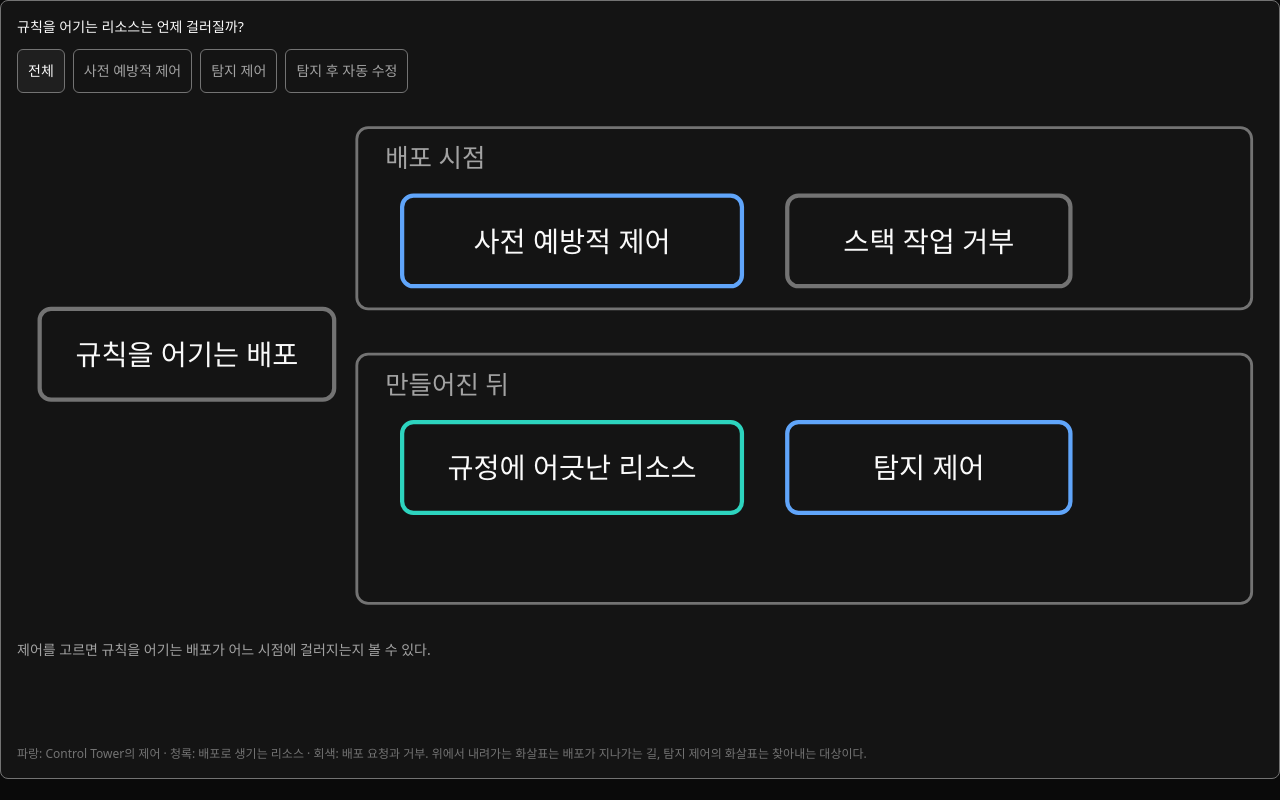
Test: ControlTimingDiagram › 제어를 바꾸면 이전 경로·곁말이 사라지고 전체를 누르면 초기 상태로 돌아온다
The image size is (1280, 800).
Click the button "사전 예방적 제어" at point(133, 71), box [73,49,192,93]
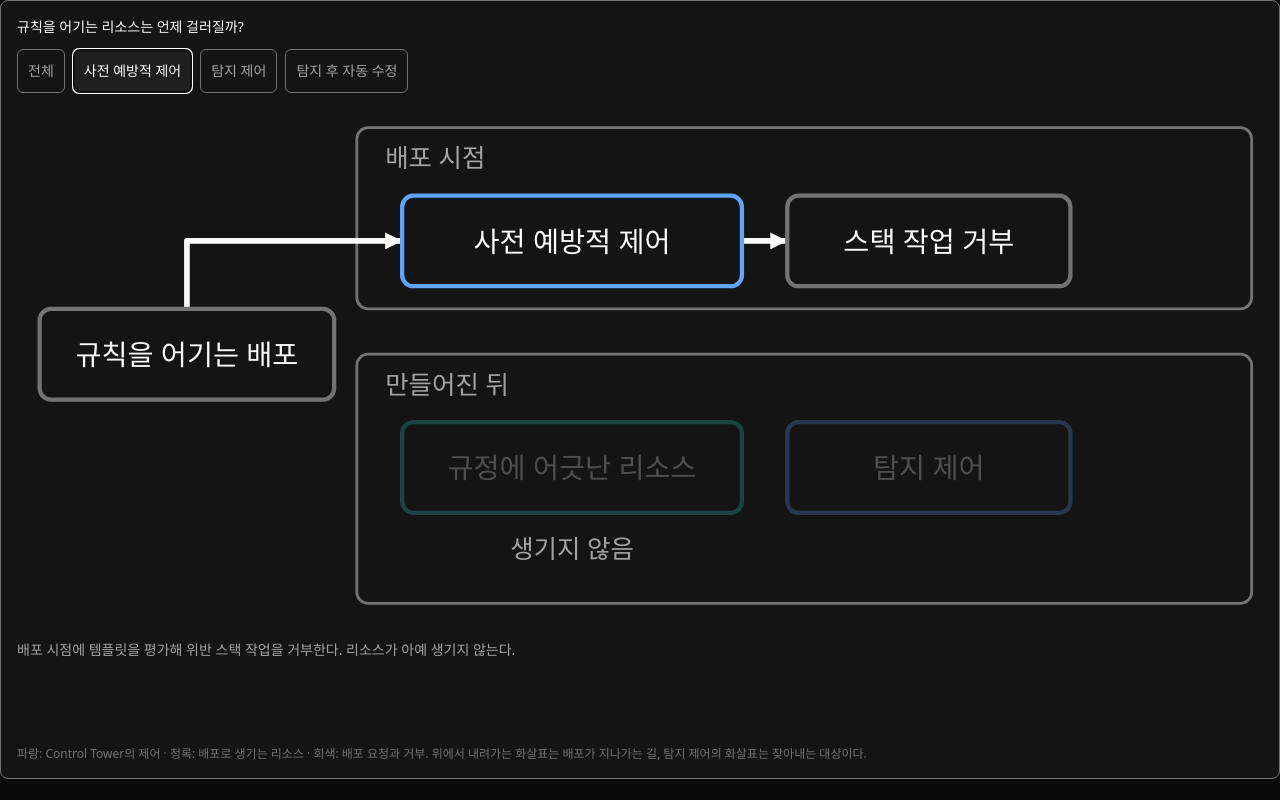
Click the button "탐지 제어" at point(239, 71), box [200,49,277,93]
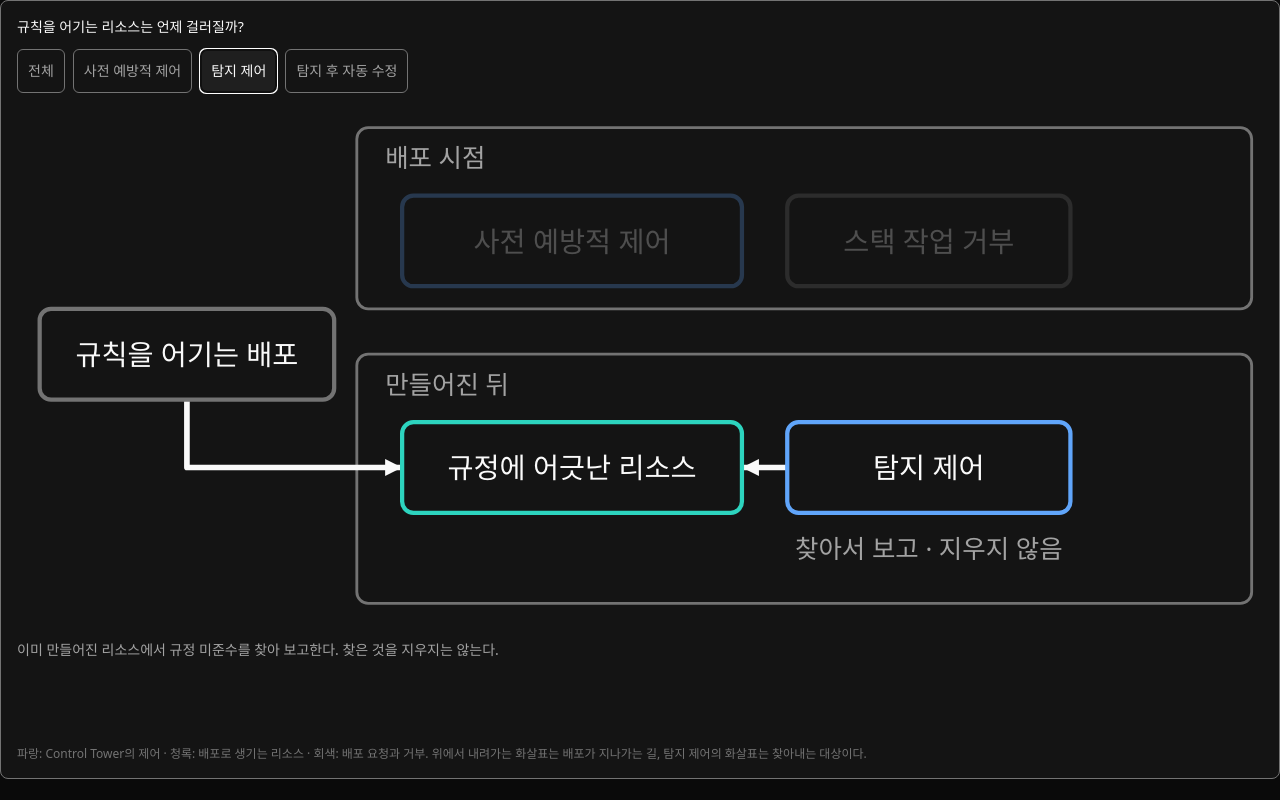
Click the button "탐지 후 자동 수정" at point(347, 71), box [285,49,408,93]
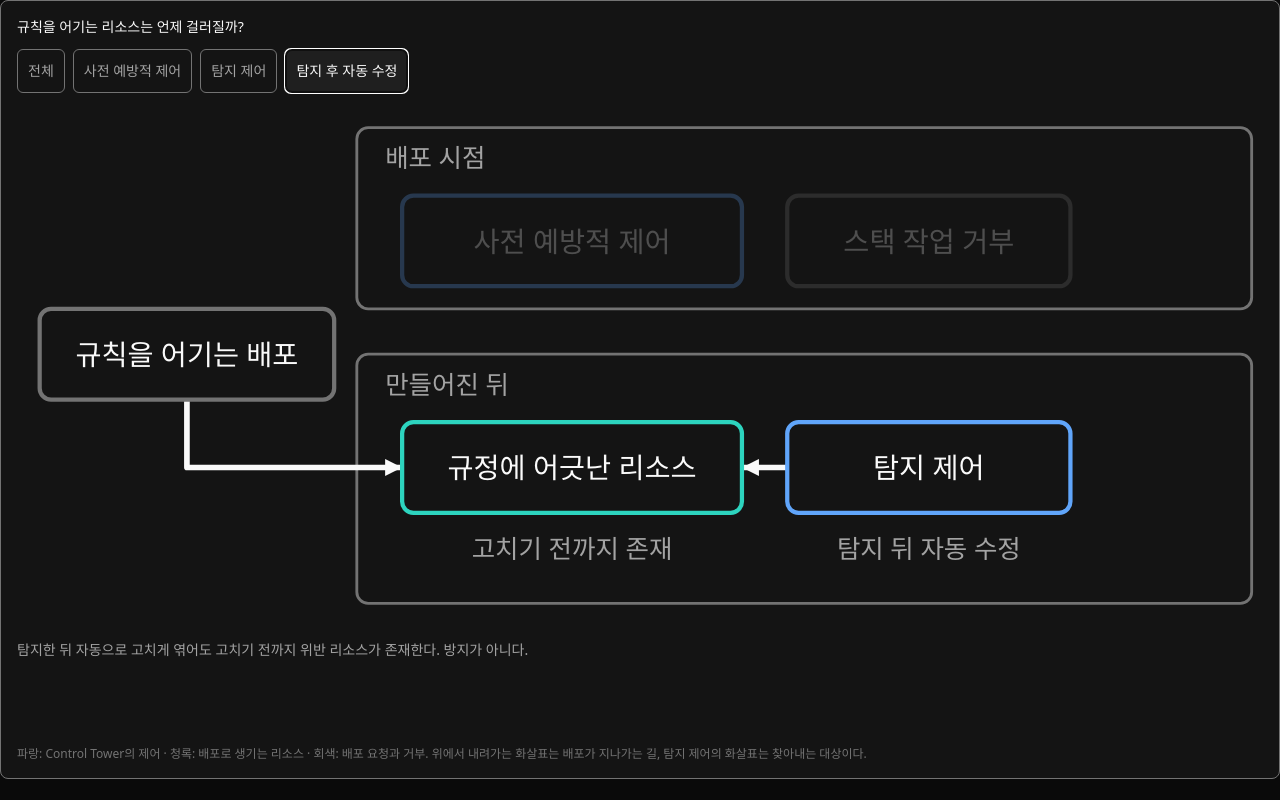
Click the button "사전 예방적 제어" at point(133, 71), box [73,49,192,93]
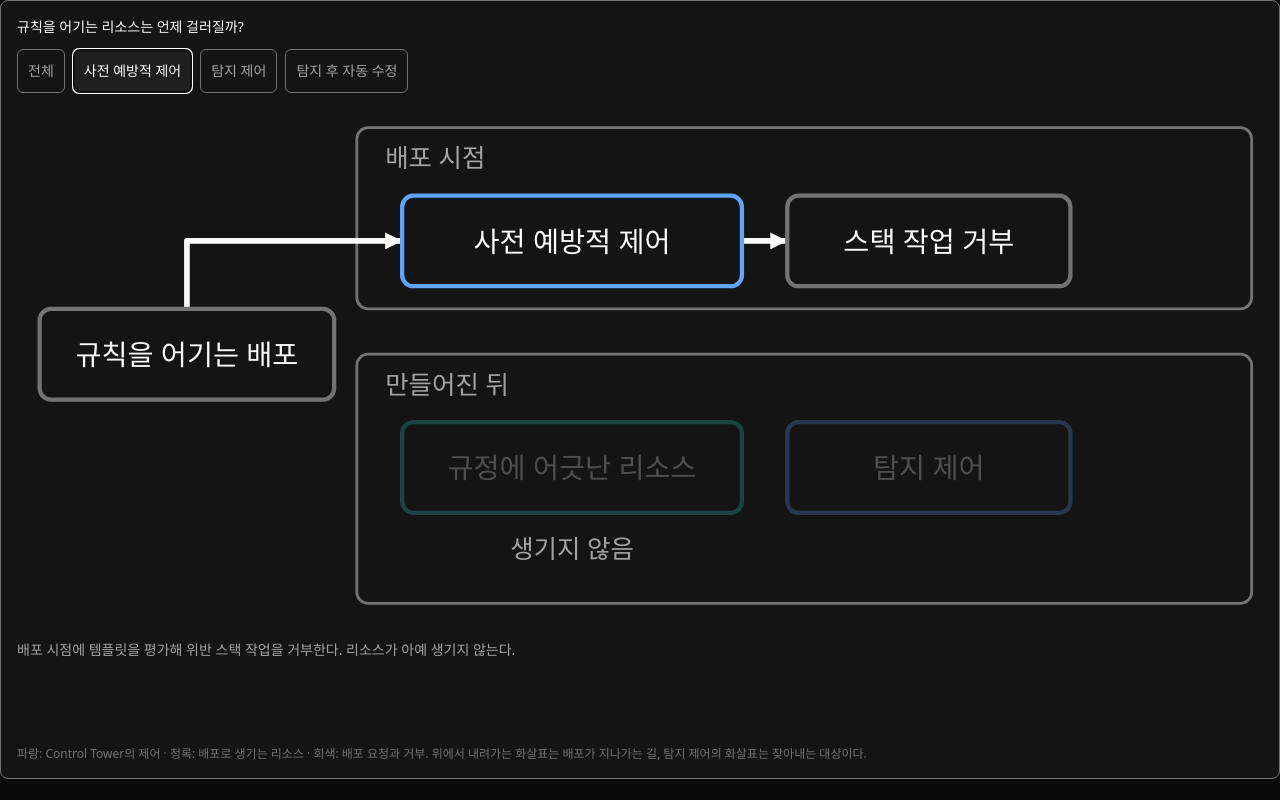
Click the button "전체" at point(41, 71), box [17,49,65,93]
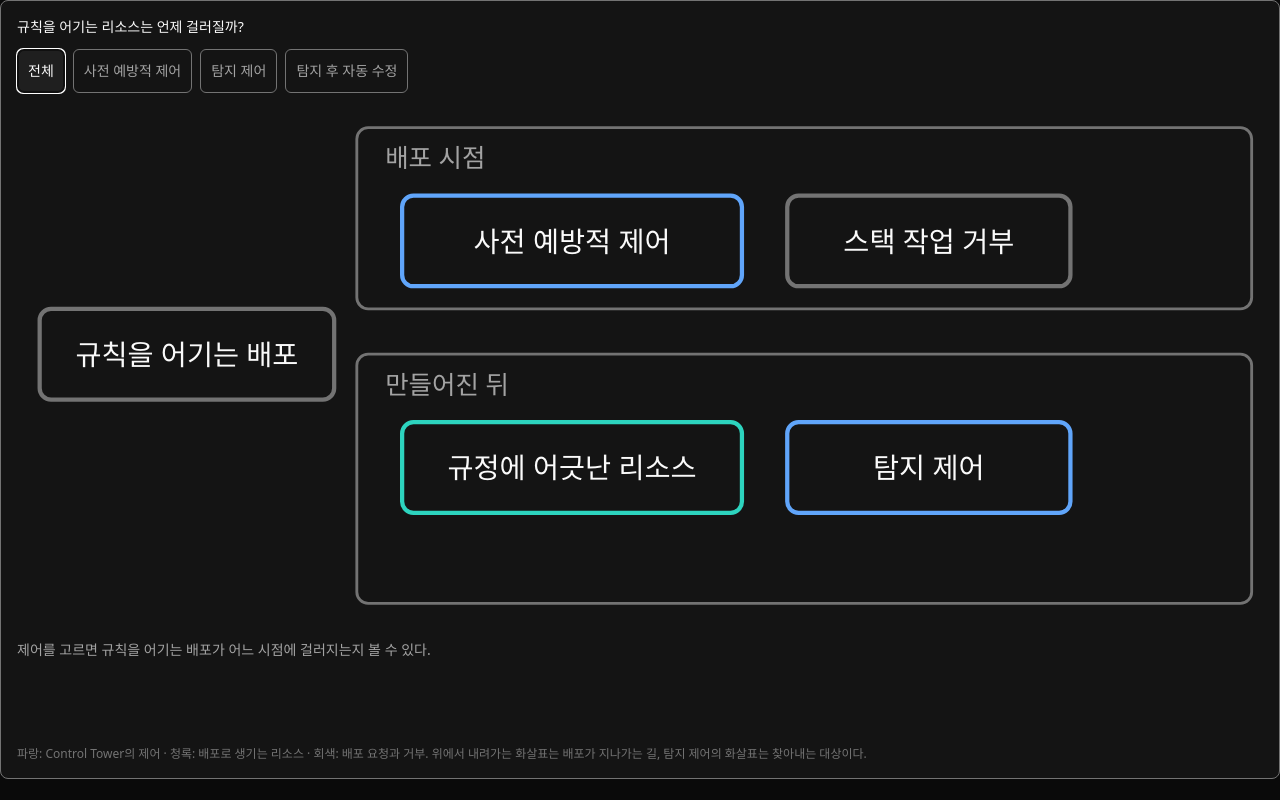
Expected: the text "제어를 고르면 규칙을 어기는 배포가 어느 시점에 걸러지는지 볼 수 있다." is shown, [17,640,431,659]
